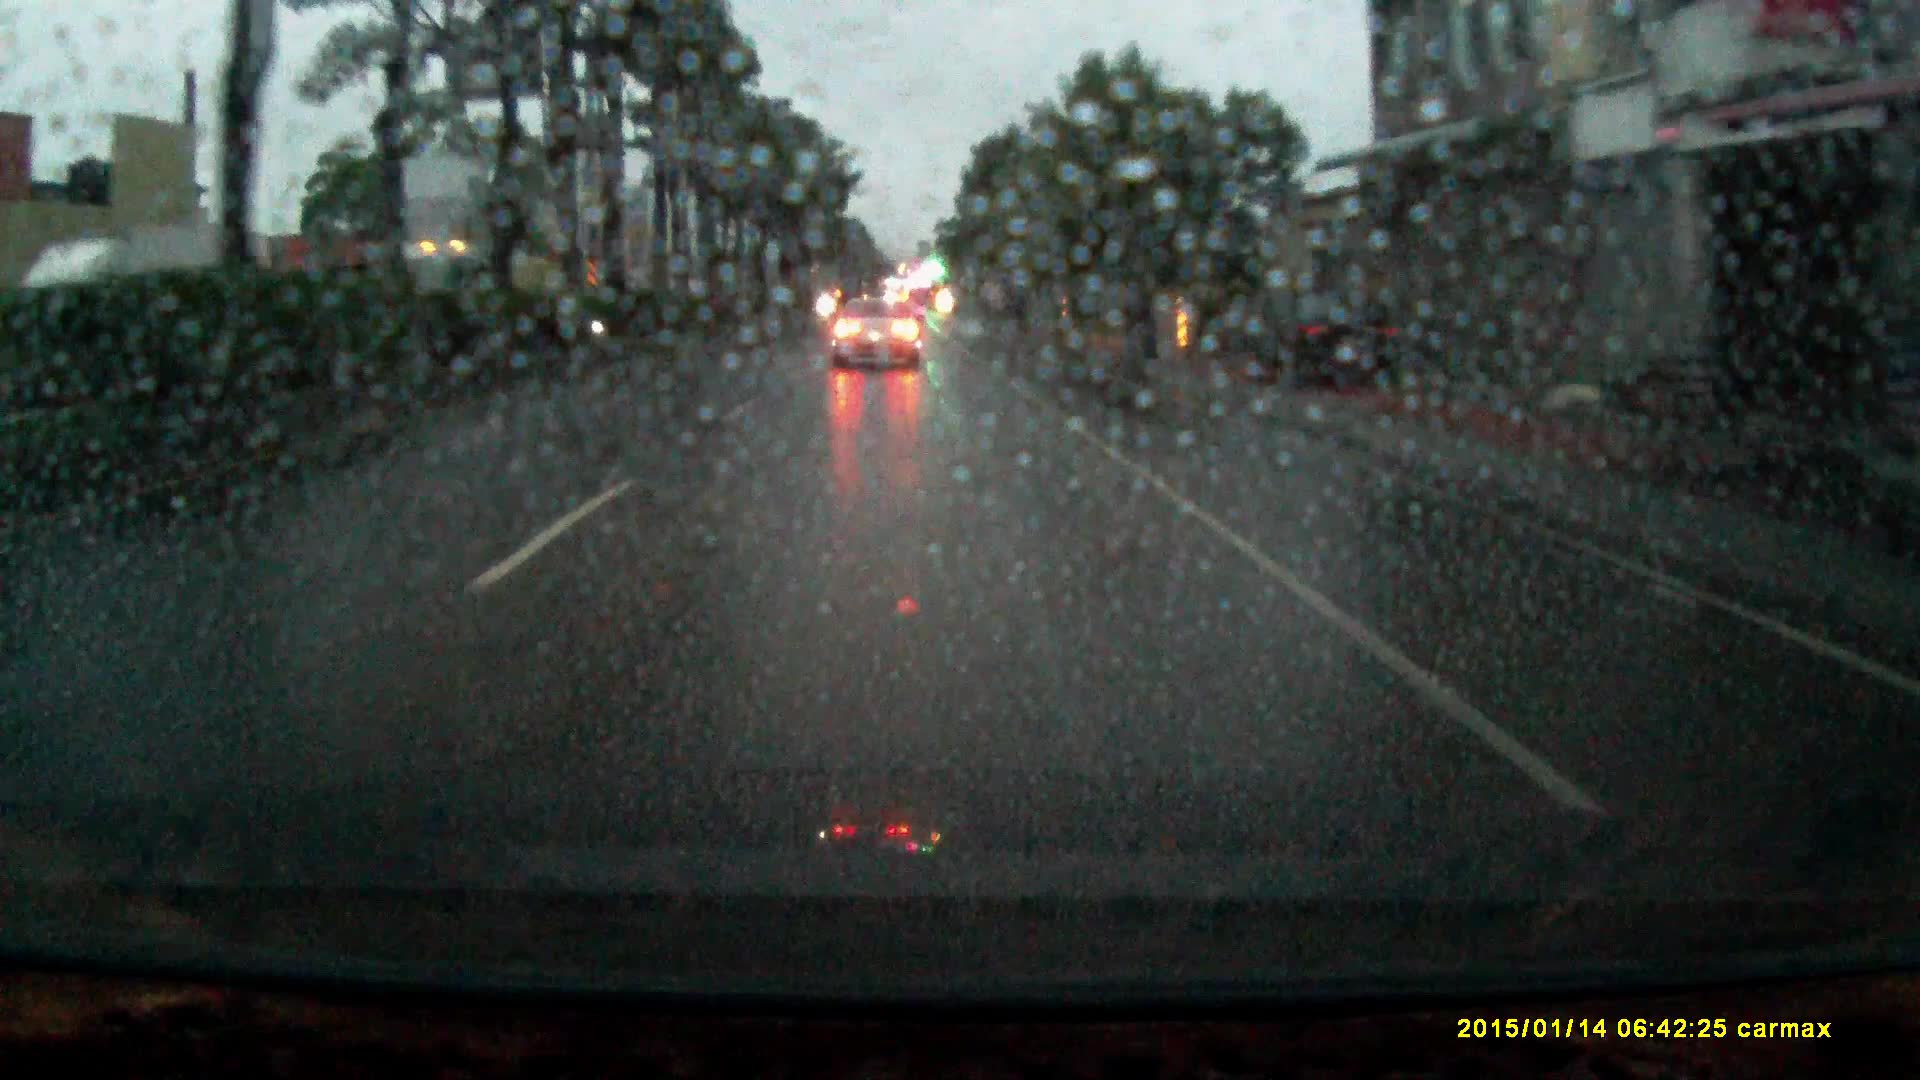vehicle: (15, 243, 214, 389), (372, 237, 564, 335), (1253, 295, 1400, 385), (829, 301, 926, 375)
